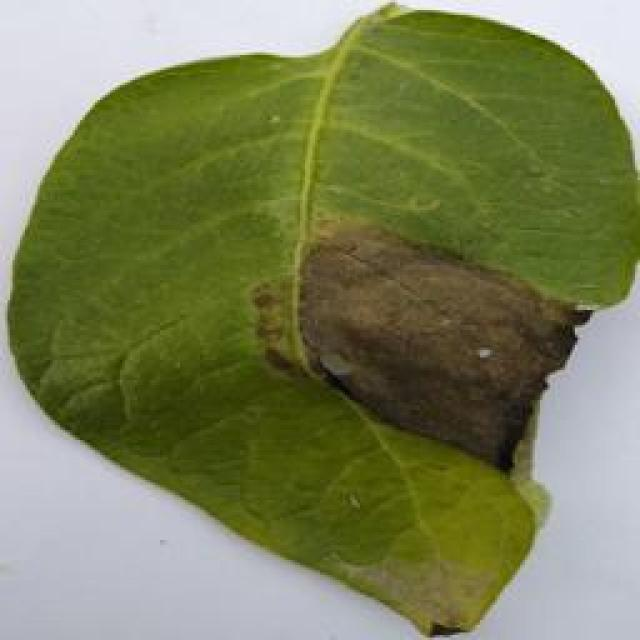Potato_Late_Blight: (11, 4, 625, 631)
